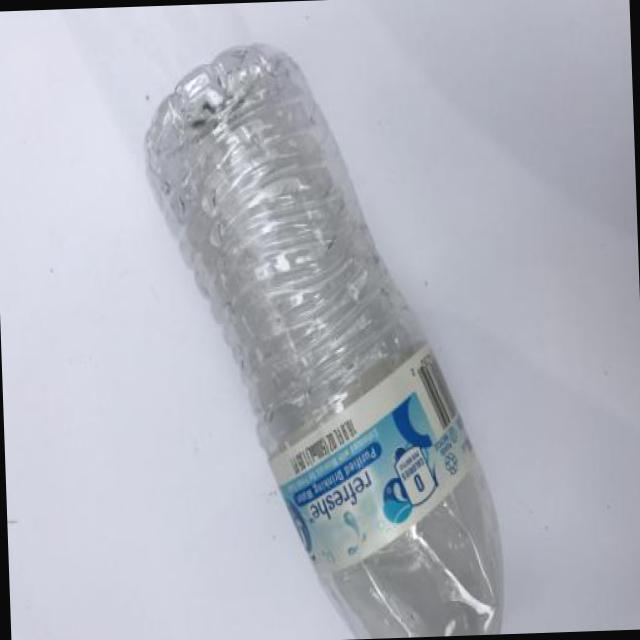Recycle: (141, 37, 505, 640)
